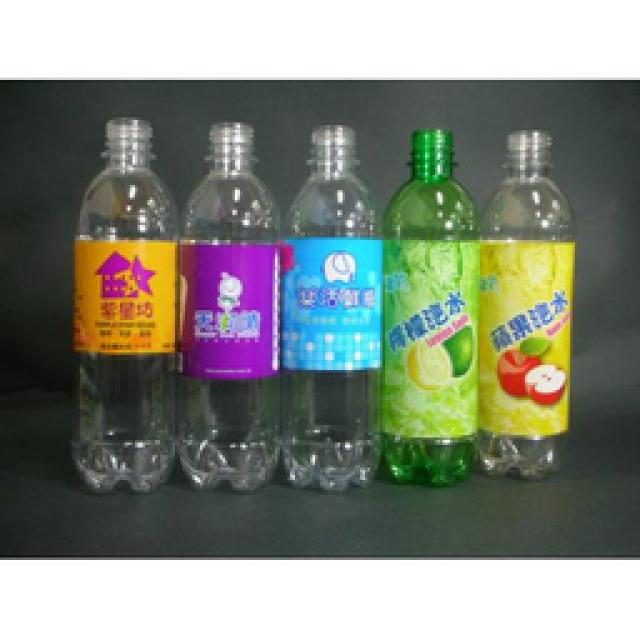plastic_soda_bottles: (65, 121, 188, 498), (186, 122, 289, 496), (286, 128, 391, 486), (378, 128, 478, 487), (480, 138, 572, 479)
